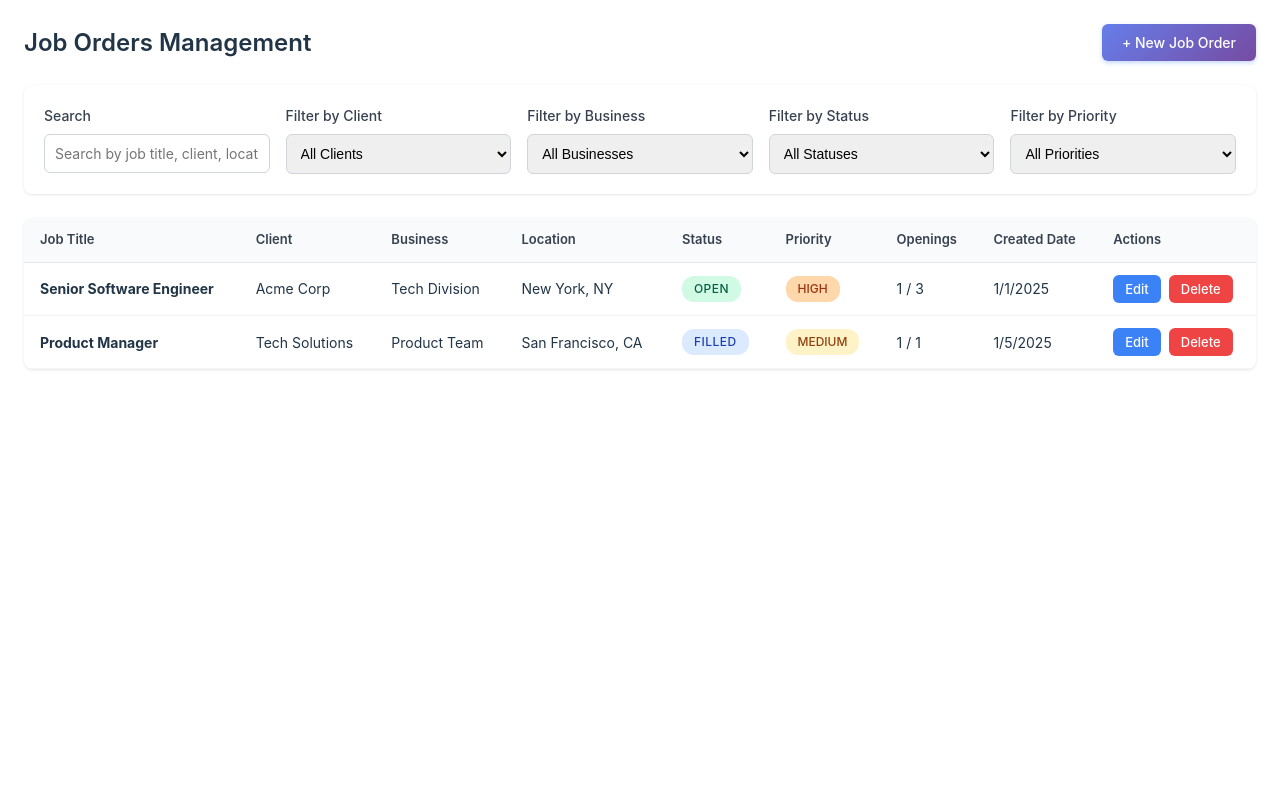
Test: JobOrdersManager › opens modal when clicking new job order button
Click the button "+ New Job Order" at (1179, 42), box 1102,24 -> 1256,61
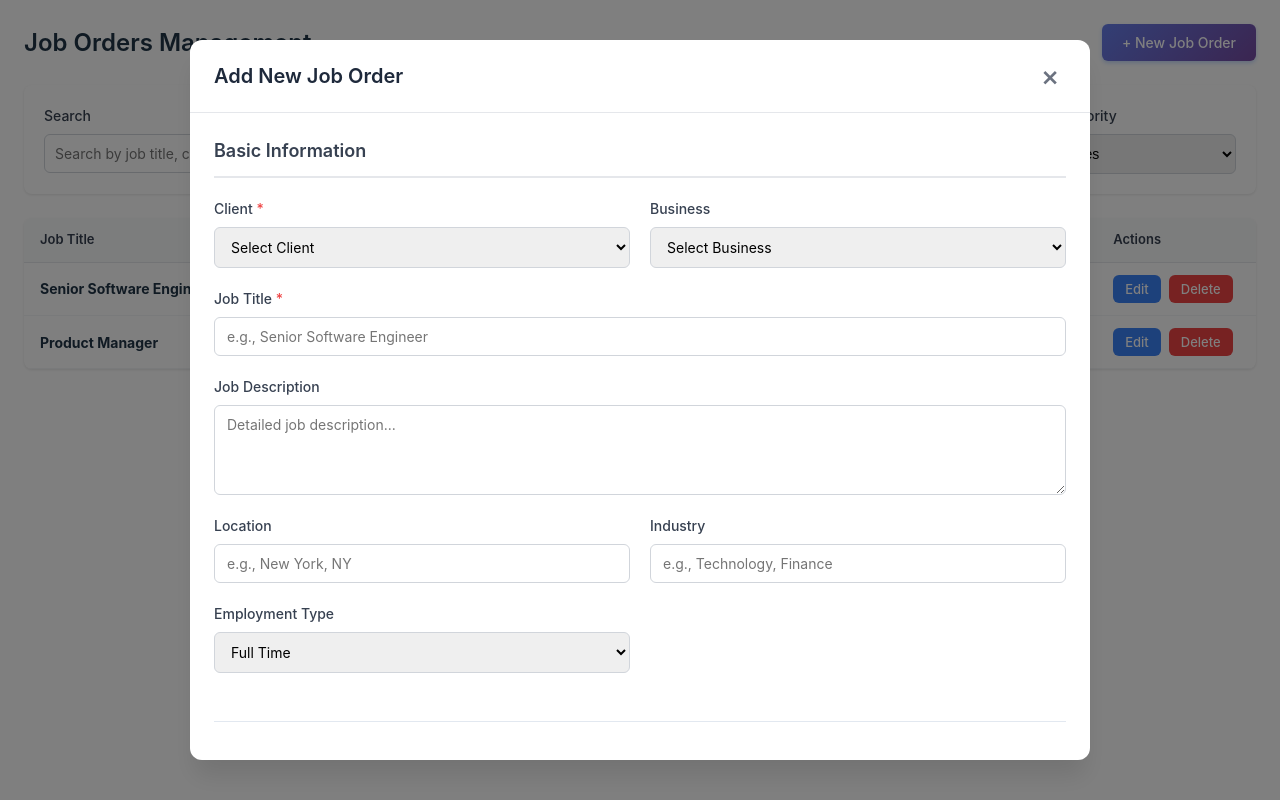
Expected: the heading "Add New Job Order" is shown, 214,61 -> 403,91
